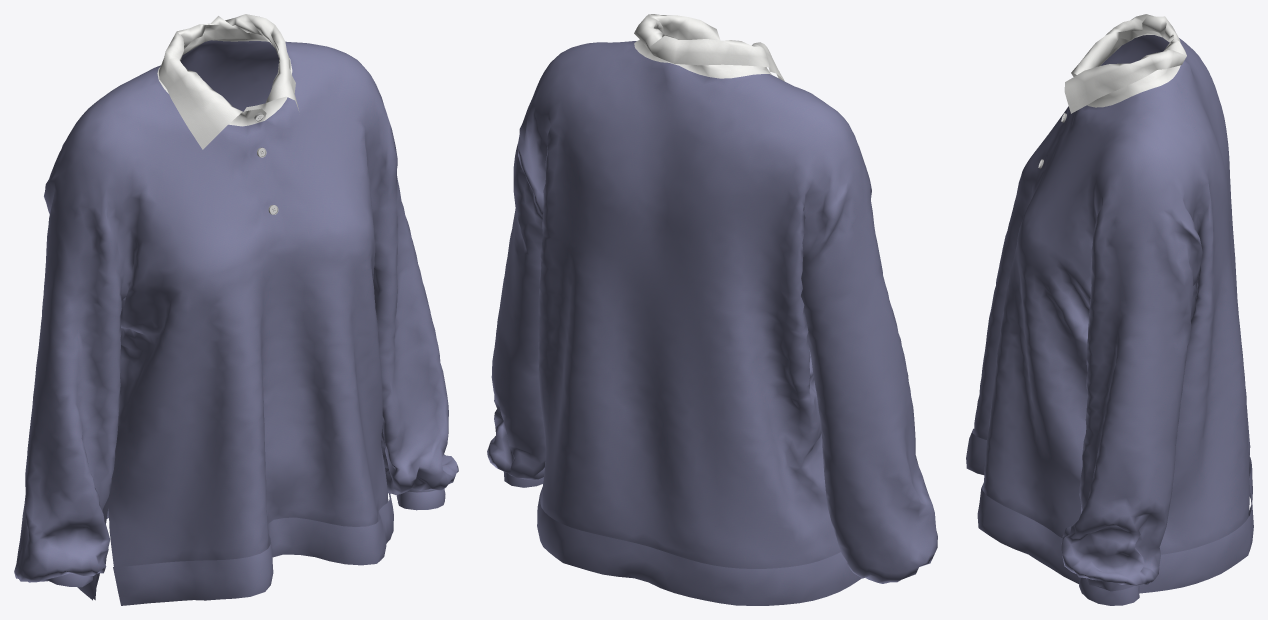
3 views of the same model, side by side, from view 1: azimuth 30°, elevation 25°; view 2: azimuth 150°, elevation 25°; view 3: azimuth 270°, elevation 25° (orthographic). The views are drawn at different scales.
Visible parts, largest first — view 1: Pattern2D_3346071, Pattern2D_3477746, Pattern2D_3483599, Pattern2D_3445324, Pattern2D_614027 (×2), Pattern2D_3442182, Pattern2D_420041, Pattern2D_3459562, Pattern2D_420022, Pattern2D_3424674, Pattern2D_420052, Pattern2D_420074 (+18 smaller); view 2: Pattern2D_3459562, Pattern2D_3462828, Pattern2D_3445324, Pattern2D_614552 (×2), Pattern2D_430427, Pattern2D_501064, Pattern2D_430405, Pattern2D_501049, Pattern2D_3424674, Pattern2D_430416, Pattern2D_3442182, Pattern2D_363371 (+14 smaller); view 3: Pattern2D_3459562, Pattern2D_3483599, Pattern2D_3346071, Pattern2D_3442182, Pattern2D_3420210, Pattern2D_3462828, Pattern2D_614027, Pattern2D_614552, Pattern2D_533716, Pattern2D_420041, Pattern2D_325179, Pattern2D_365664 (+17 smaller).
Part boxes in pixels (x1,y1,x2,y2): Pattern2D_3346071: [108, 380, 387, 565]; Pattern2D_3477746: [74, 80, 267, 300]; Pattern2D_3483599: [265, 50, 394, 246]; Pattern2D_3445324: [14, 425, 116, 582]; Pattern2D_614027 (×2): [113, 492, 393, 605]; Pattern2D_3442182: [381, 339, 458, 494]; Pattern2D_420041: [120, 265, 374, 352]; Pattern2D_3459562: [46, 40, 364, 185]; Pattern2D_420022: [120, 236, 375, 327]; Pattern2D_3424674: [44, 181, 128, 310]; Pattern2D_420052: [123, 303, 377, 381]; Pattern2D_420074: [117, 354, 381, 434]; Pattern2D_3459562: [518, 41, 861, 305]; Pattern2D_3462828: [538, 365, 840, 567]; Pattern2D_3445324: [822, 398, 937, 583]; Pattern2D_614552 (×2): [537, 487, 861, 605]; Pattern2D_430427: [538, 336, 820, 436]; Pattern2D_501064: [539, 258, 810, 361]; Pattern2D_430405: [538, 288, 812, 388]; Pattern2D_501049: [540, 235, 808, 334]; Pattern2D_3424674: [801, 169, 882, 311]; Pattern2D_430416: [538, 312, 816, 409]; Pattern2D_3442182: [487, 330, 545, 479]; Pattern2D_363371: [814, 347, 907, 416]; Pattern2D_3459562: [1131, 35, 1231, 292]; Pattern2D_3483599: [1021, 92, 1141, 296]; Pattern2D_3346071: [974, 310, 1086, 536]; Pattern2D_3442182: [1061, 433, 1175, 585]; Pattern2D_3420210: [1089, 210, 1202, 320]; Pattern2D_3462828: [1159, 345, 1250, 553]; Pattern2D_614027: [966, 428, 1079, 584]; Pattern2D_614552: [1139, 456, 1253, 593]; Pattern2D_533716: [1064, 39, 1186, 113]; Pattern2D_420041: [1005, 204, 1089, 343]; Pattern2D_325179: [1088, 310, 1191, 350]; Pattern2D_365664: [1086, 381, 1182, 428].
Bounding box in the file's own units: 59.81 × 69.34 × 36.35.
